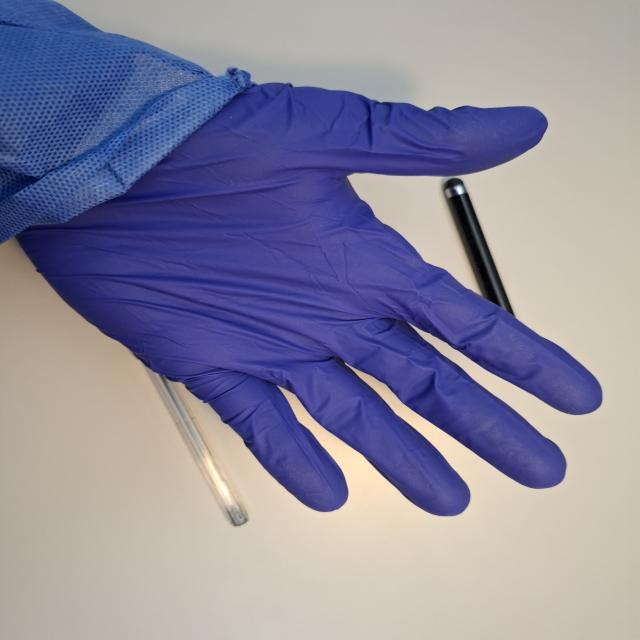glove_on: (12, 76, 607, 519)
